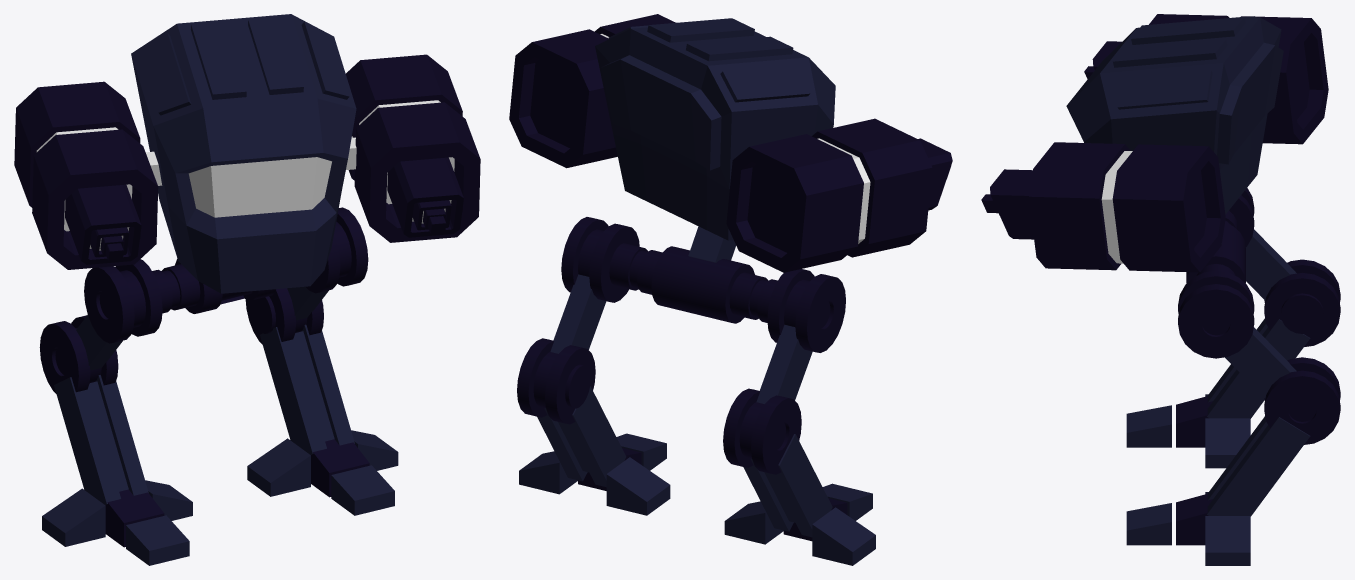
Rendered from Mech.fbx.
3 renders of one model, left to right at view 1: azimuth 30°, elevation 25°; view 2: azimuth 150°, elevation 25°; view 3: azimuth 270°, elevation 25°, orthographic. The views are drawn at different scales.
Parts seen in each view (by area): view 1: Cube, Cube.007, Cube.003, Cylinder, Cube.006, Cylinder.001, Cube.005, Cube.004, Cube.002; view 2: Cube.007, Cube, Cylinder, Cylinder.001, Cube.003, Cube.006, Cube.002, Cube.005, Cube.001, Cube.004; view 3: Cube.007, Cube, Cylinder.001, Cube.003, Cylinder, Cube.006, Cube.002, Cube.005, Cube.004.
Part boxes in pixels (x1,y1,x2,y2): Cube: [131, 14, 356, 293]; Cube.007: [14, 54, 480, 269]; Cube.003: [54, 324, 354, 504]; Cylinder: [84, 207, 368, 343]; Cube.006: [42, 430, 398, 546]; Cylinder.001: [39, 288, 323, 393]; Cube.005: [126, 465, 394, 565]; Cube.004: [105, 439, 369, 547]; Cube.002: [76, 286, 328, 370]; Cube.007: [509, 14, 952, 272]; Cube: [595, 18, 835, 240]; Cylinder: [561, 217, 845, 352]; Cylinder.001: [517, 338, 801, 474]; Cube.003: [537, 386, 832, 537]; Cube.006: [519, 451, 875, 565]; Cube.002: [550, 274, 812, 403]; Cube.005: [616, 433, 872, 520]; Cube.001: [688, 226, 735, 262]; Cube.004: [578, 448, 847, 541]; Cube.007: [981, 14, 1328, 272]; Cube: [1066, 16, 1283, 214]; Cylinder.001: [1264, 259, 1340, 444]; Cube.003: [1207, 318, 1310, 516]; Cylinder: [1178, 188, 1254, 358]; Cube.006: [1205, 394, 1250, 565]; Cube.002: [1225, 229, 1296, 398]; Cube.005: [1126, 405, 1171, 545]; Cube.004: [1176, 396, 1212, 545].
Bounding box in the file's own units: 463 × 509 × 360.
